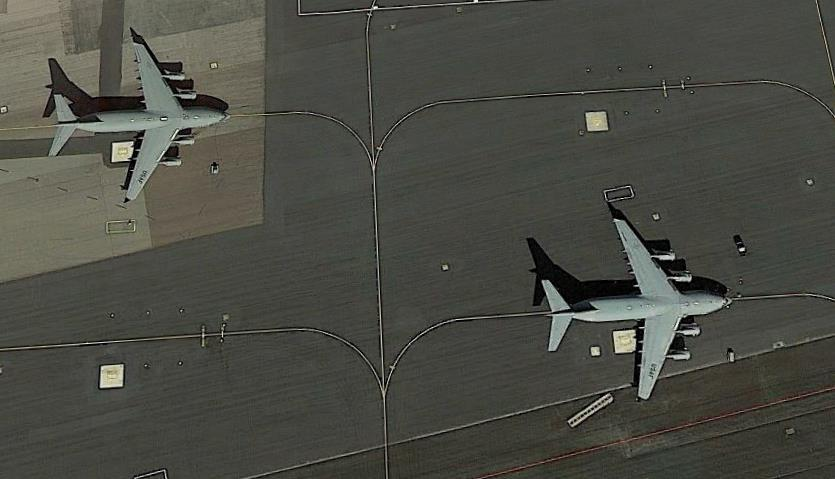C-17: (526, 211, 733, 404), (38, 38, 233, 203)
